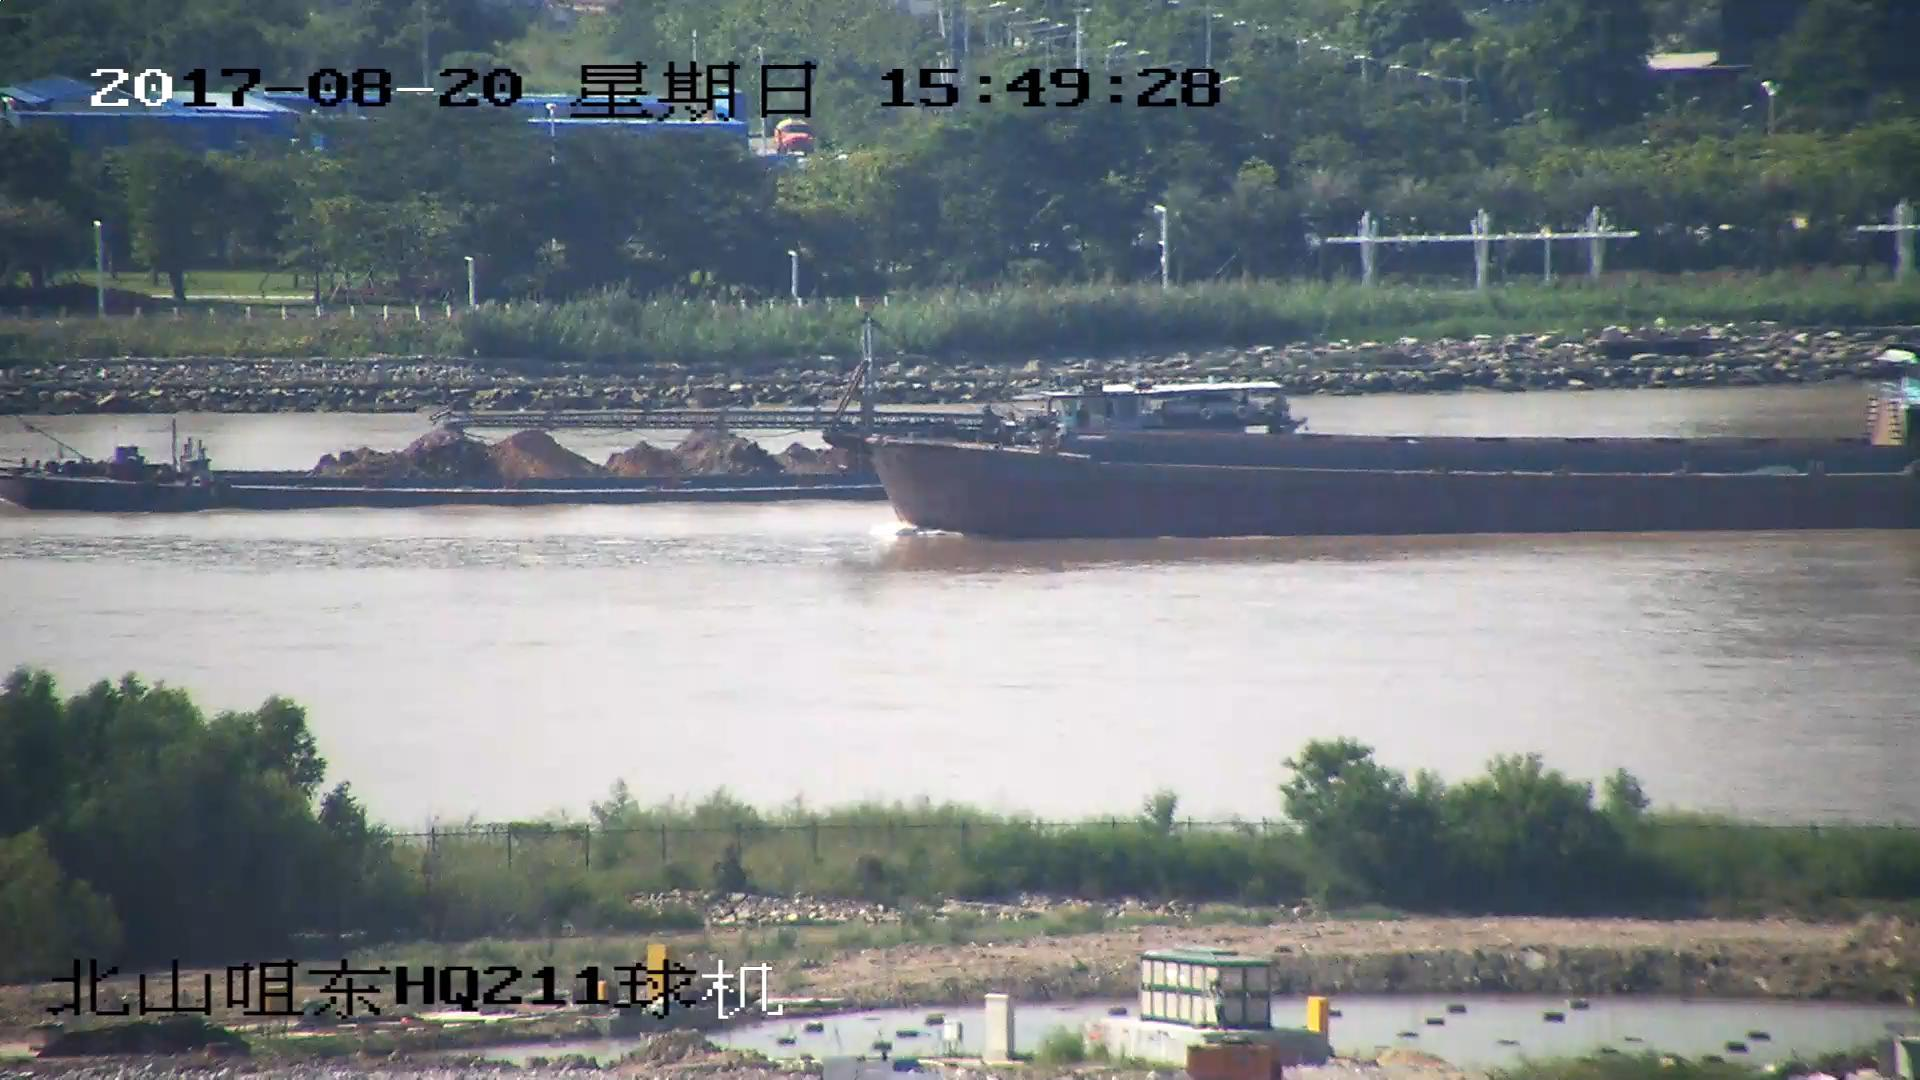Ship: (456, 330, 1920, 534), (3, 375, 1300, 521)
